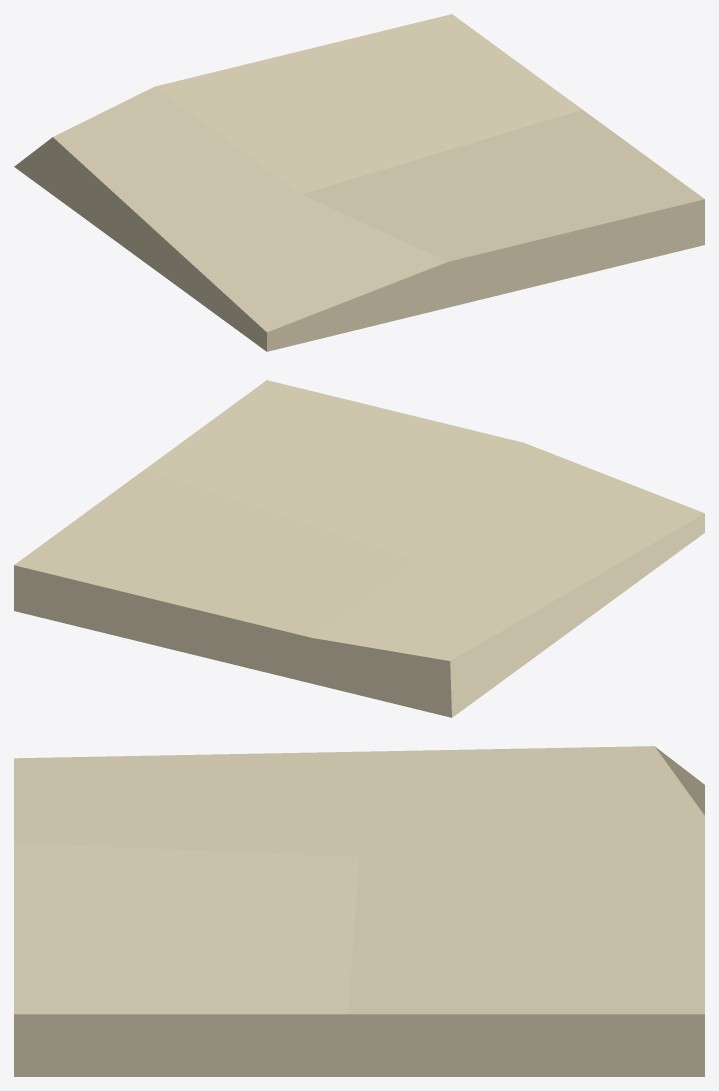
File: Destroy_Plate_6.fbx
3 views of the same model, one above another, from view 1: azimuth 30°, elevation 25°; view 2: azimuth 150°, elevation 25°; view 3: azimuth 270°, elevation 25° (orthographic). The views are drawn at different scales.
Parts seen in each view (by area): view 1: Destroy_Plate_6; view 2: Destroy_Plate_6; view 3: Destroy_Plate_6.
Boxes of the visible parts, x1=… form: Destroy_Plate_6: x1=14, y1=14, x2=704, y2=351; Destroy_Plate_6: x1=14, y1=380, x2=704, y2=717; Destroy_Plate_6: x1=14, y1=746, x2=704, y2=1076.
Size of the model in its own units: 300 by 30 by 300.
